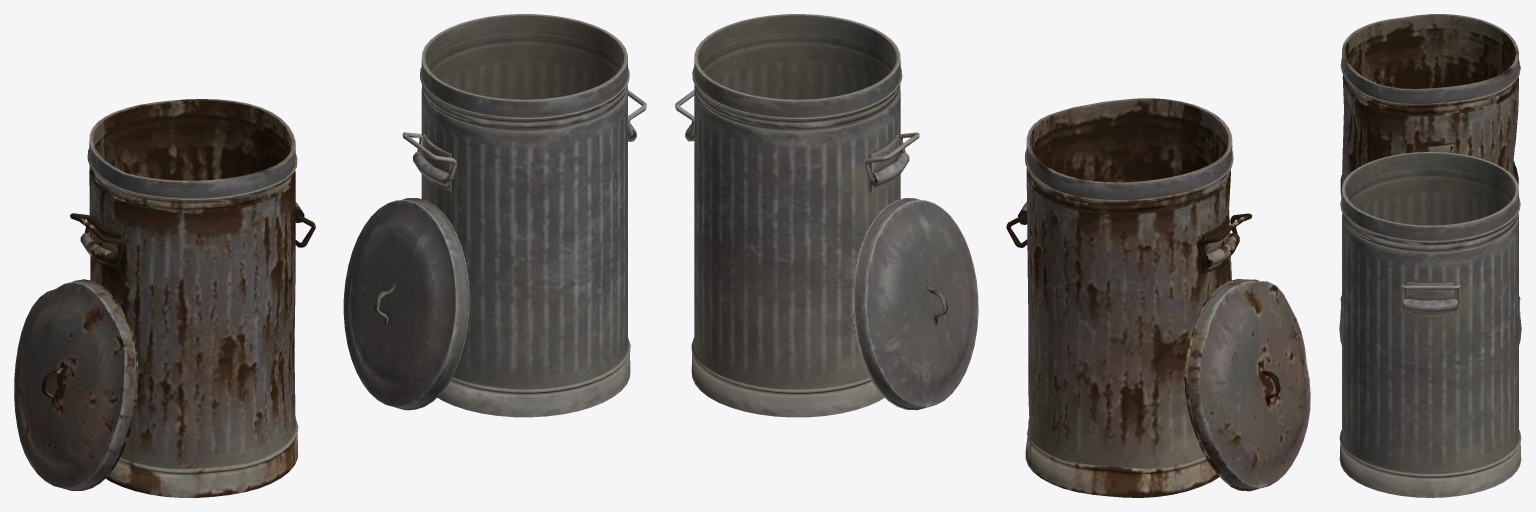
File: dumpster.glb
3 renders of one model, left to right at view 1: azimuth 30°, elevation 25°; view 2: azimuth 150°, elevation 25°; view 3: azimuth 270°, elevation 25°, orthographic. The views are drawn at different scales.
Parts seen in each view (by area): view 1: metal_trash_can_handle_left, metal_trash_can_rust; view 2: metal_trash_can_handle_left, metal_trash_can_rust; view 3: metal_trash_can_handle_left, metal_trash_can_rust.
Part boxes in pixels (x1,y1,x2,y2): metal_trash_can_handle_left: [343, 14, 646, 417]; metal_trash_can_rust: [14, 99, 315, 497]; metal_trash_can_handle_left: [675, 14, 978, 417]; metal_trash_can_rust: [1006, 98, 1310, 497]; metal_trash_can_handle_left: [1339, 152, 1521, 497]; metal_trash_can_rust: [1340, 14, 1520, 317].
Size of the model in its own units: 1.78 by 0.9062 by 0.5543.
Materials: 2 (2 with a texture image).
